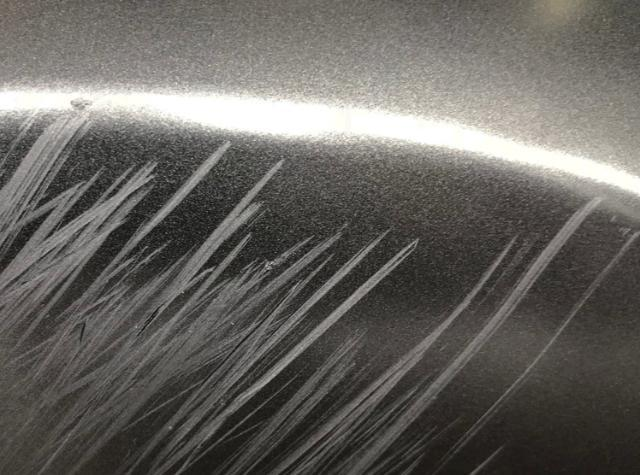Door: (4, 79, 628, 475)
